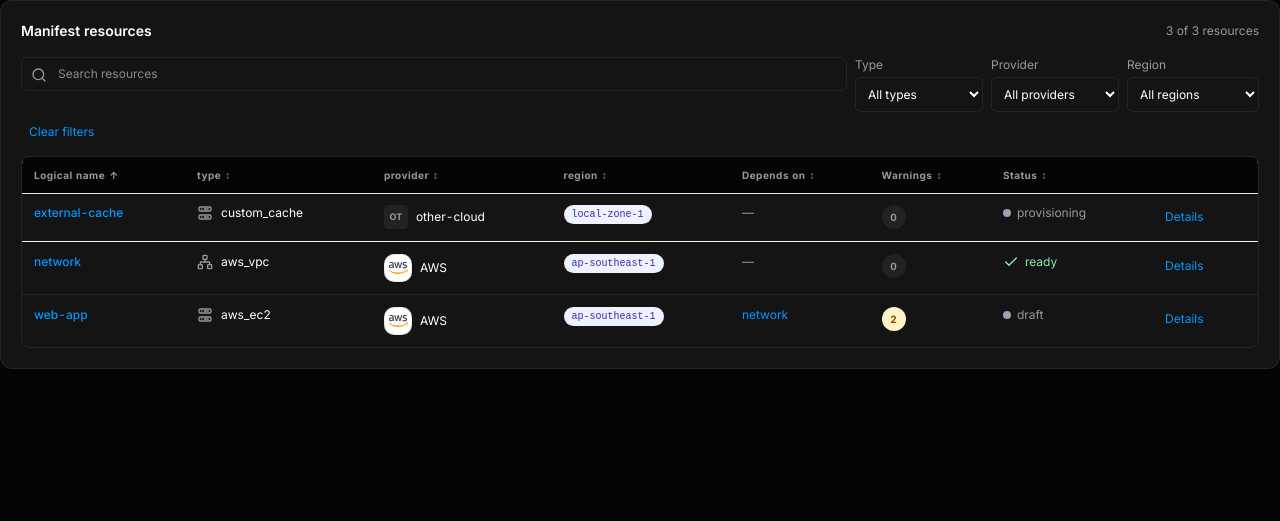
Test: ResourceTableComponent › clears filters and expands a dependency target when it is clicked
The image size is (1280, 521).
Select "aws_ec2" in the dropdown named "Filter by type" at (919, 94), box left=855, top=77, right=983, bottom=112
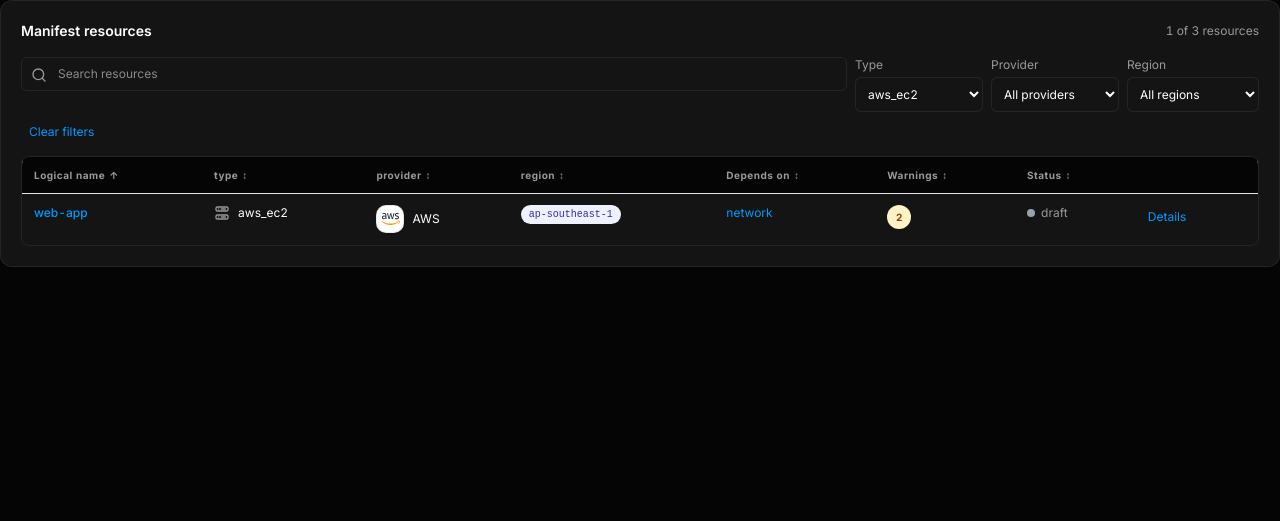
Click the button "network" at (749, 213), box left=726, top=205, right=773, bottom=221
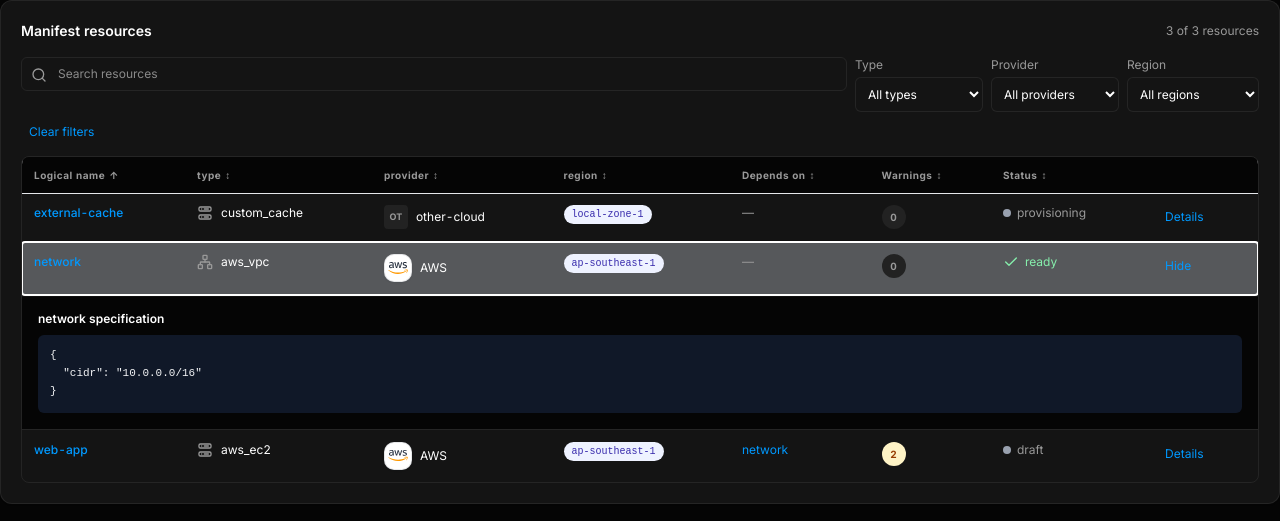
Result: the text "{ \"cidr\": \"10.0.0.0/16\" }" is shown at left=38, top=335, right=1242, bottom=413
